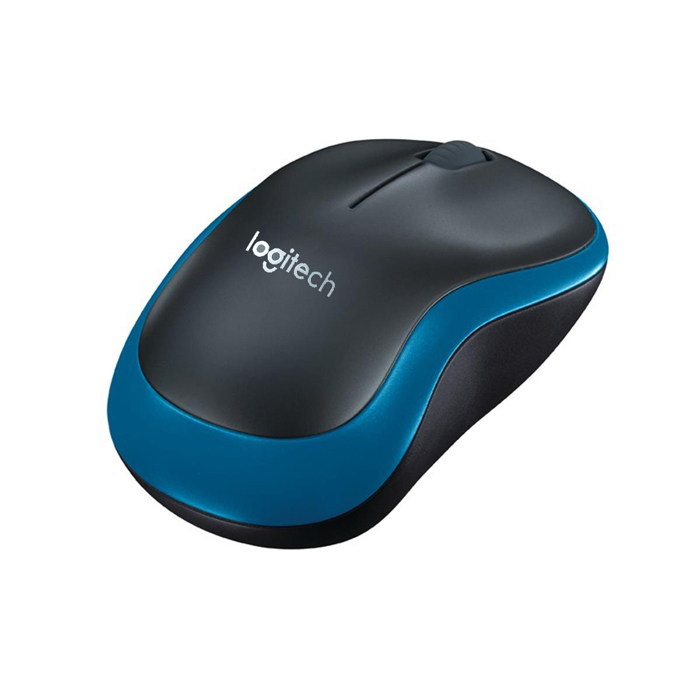logitech-mouse-m185: (97, 134, 612, 552)
